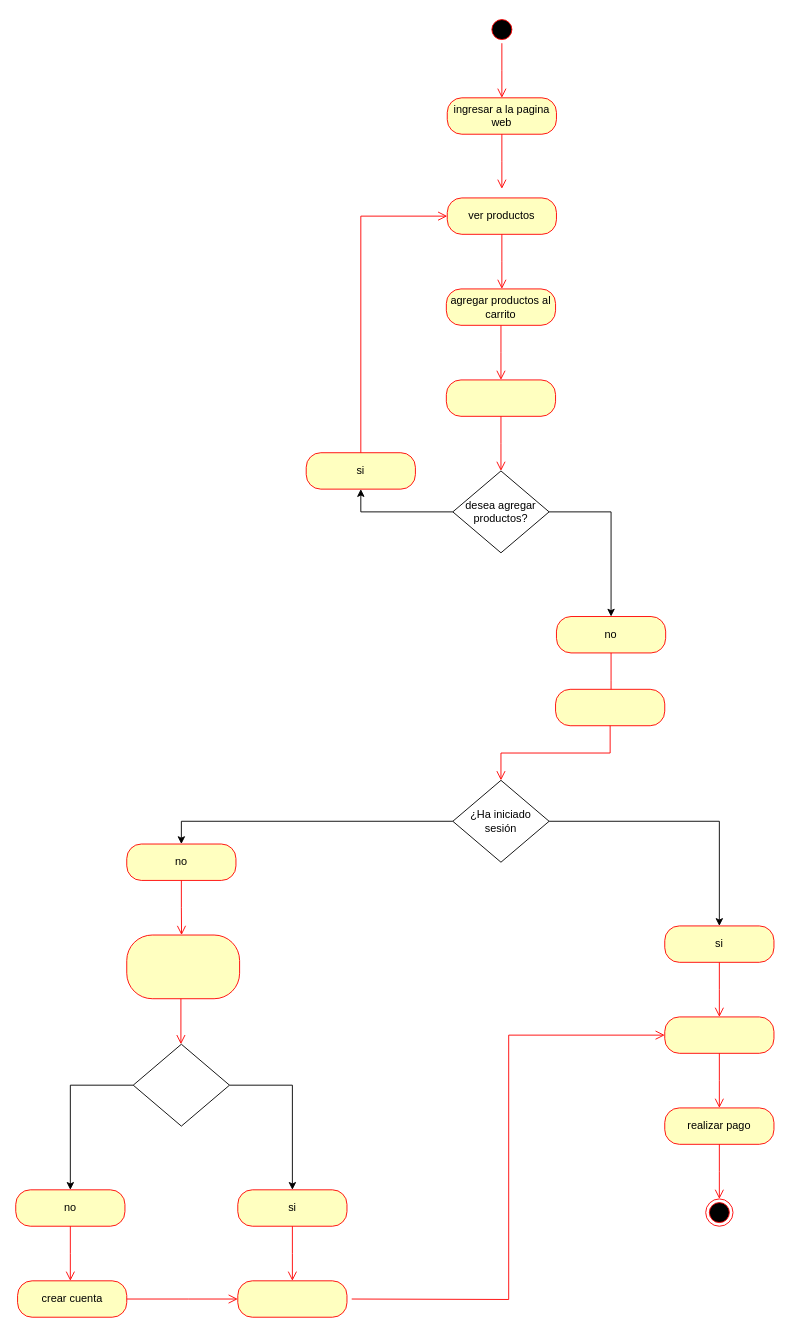
Image size: 791x1333. Some labels were removed from this diagram. The box of each missing label's shape, as (x1, y1, x2, y2) in pixels:
comprar: (555, 688, 665, 726)
confirmar compra: (664, 1016, 774, 1053)
iniciar sesion: (237, 1280, 347, 1317)
mostrar mensaje :"debe iniciar sesión o crea una cuenta": (126, 934, 240, 999)
revisar carrito: (445, 379, 556, 416)
¿Tiene cuenta?: (132, 1043, 230, 1126)
